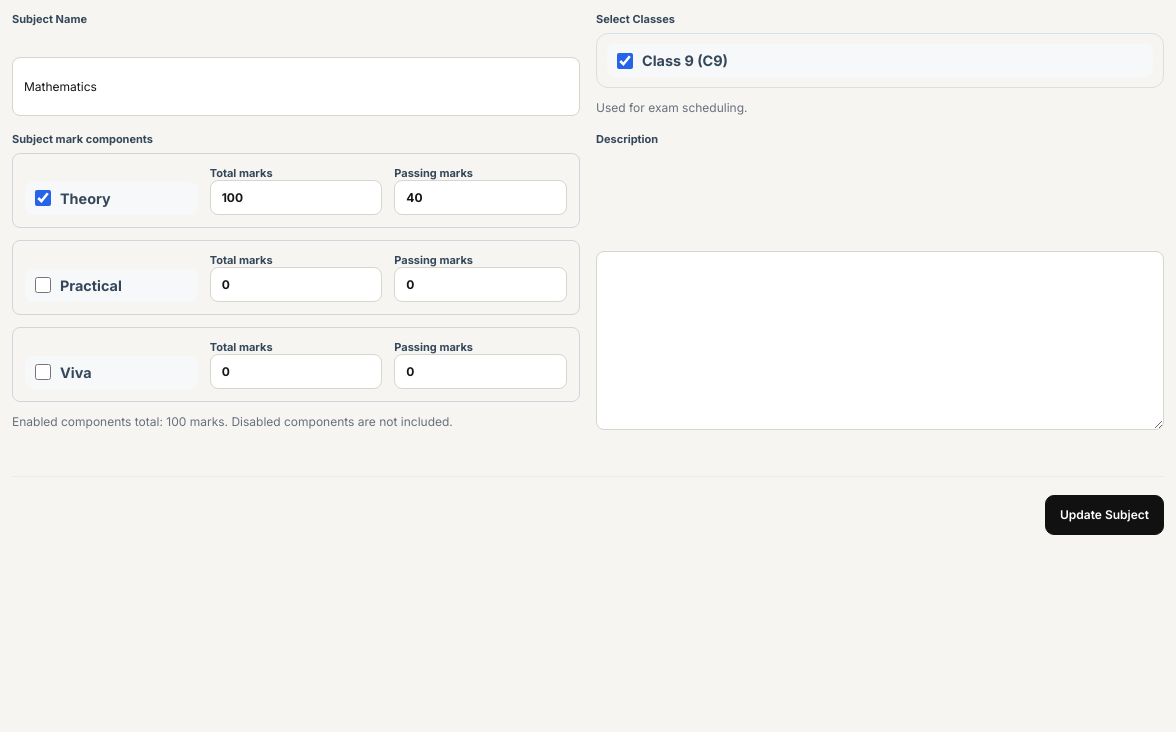
AcademicsForm curriculum validation › requires at least one class when editing a subject too
This screenshot has width=1176, height=732.
Click the checkbox labelled "Class 9 (C9)" at (625, 60), box [617,52,633,68]
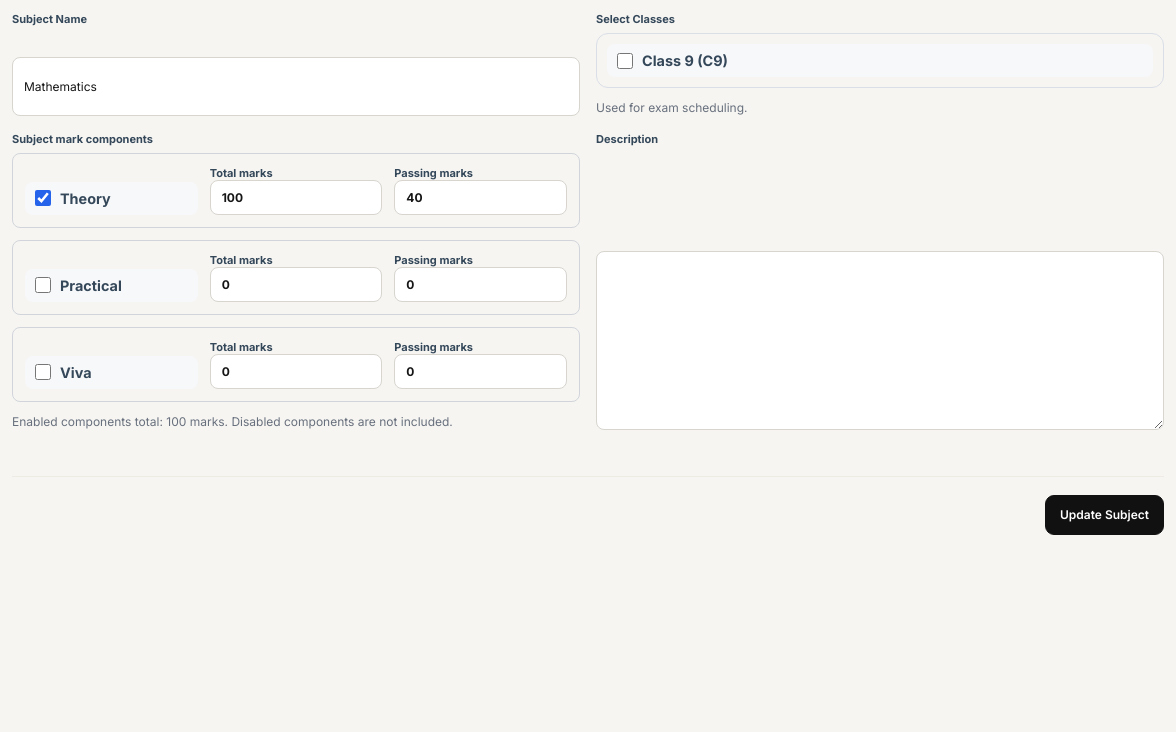
Click the button "Update Subject" at (1104, 515), box [1045,495,1164,535]
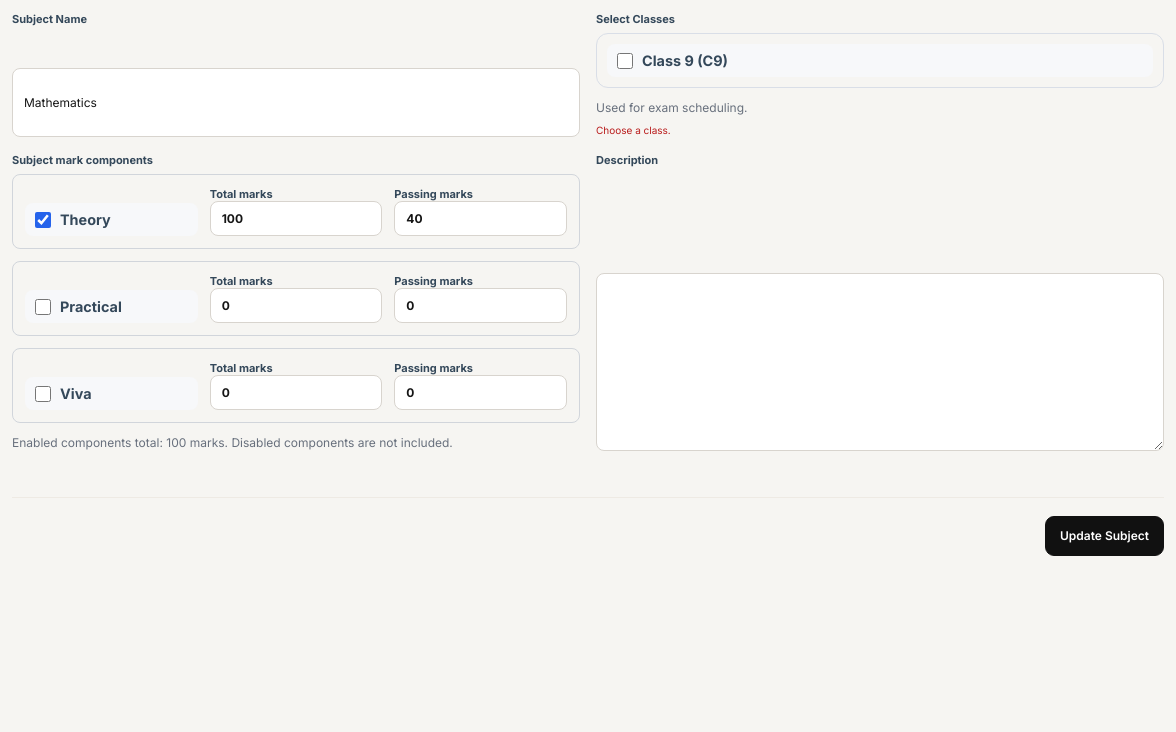
Expected: the text "Choose a class." is shown, [596,124,671,136]
